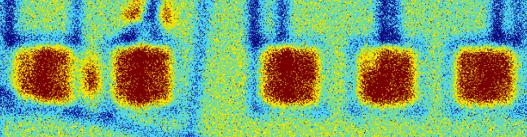Pad 3: (112, 47, 171, 104), (261, 48, 318, 105), (15, 47, 72, 102), (359, 50, 415, 105), (457, 50, 512, 103)
